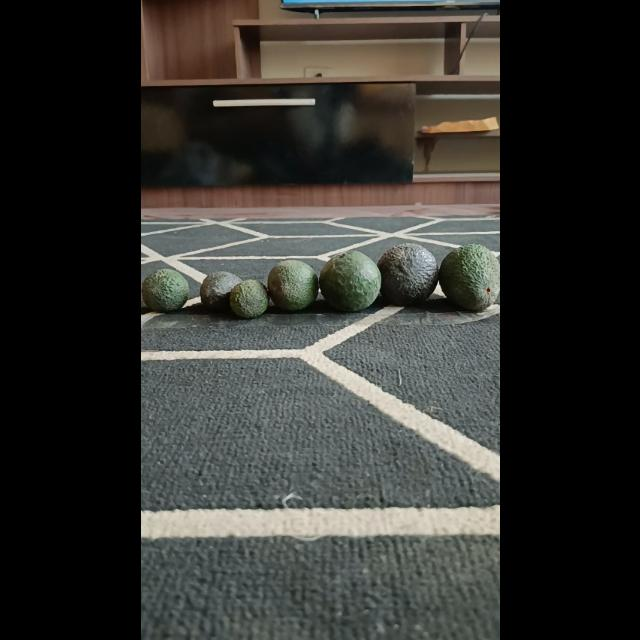Primera: (437, 243, 499, 310), (375, 242, 439, 306), (318, 251, 382, 311)
Segunda: (266, 259, 316, 311)
Tercera: (140, 268, 188, 312), (198, 270, 244, 314), (228, 278, 270, 320)
